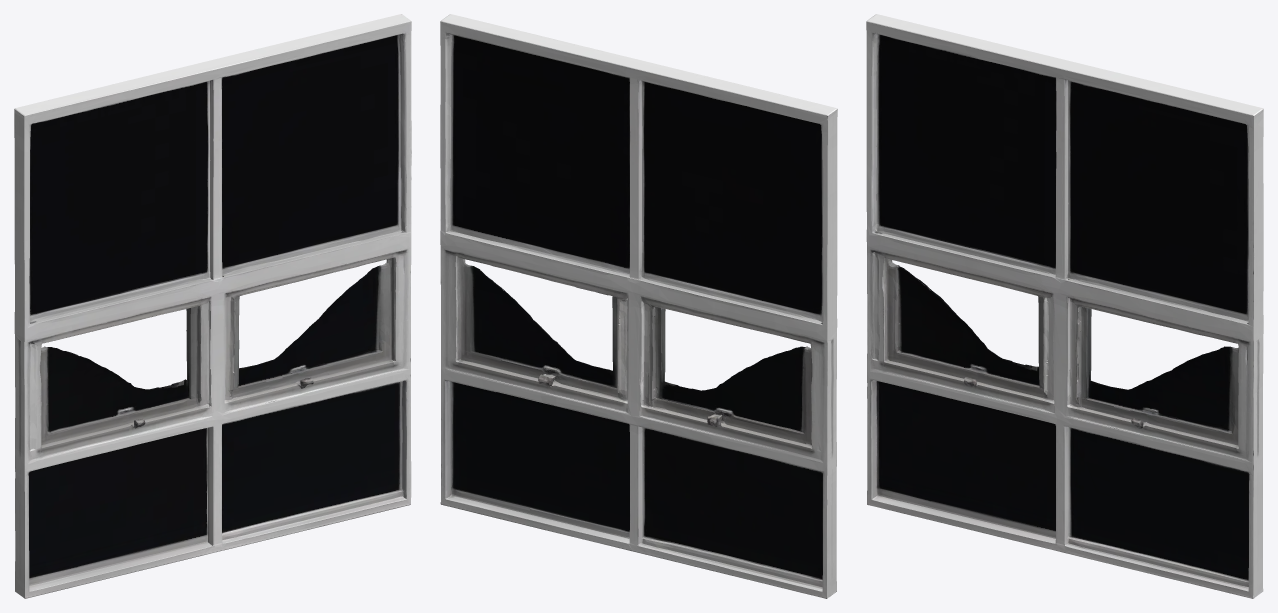
Rendered from b20343b8-06dd-4529-a74c-2c1b7d8b7eef.glb.
The picture shows the model from 3 angles, left to right: view 1: azimuth 30°, elevation 25°; view 2: azimuth 150°, elevation 25°; view 3: azimuth 330°, elevation 25°; orthographic projection.
Visible parts, largest first — view 1: world; view 2: world; view 3: world.
Boxes of the visible parts, bbox=[...] form: world: bbox=[14, 14, 411, 598]; world: bbox=[440, 14, 837, 598]; world: bbox=[866, 14, 1263, 598].
Size of the model in its own units: 0.8395 by 1 by 0.0973.
Materials: 1 (1 with a texture image).
